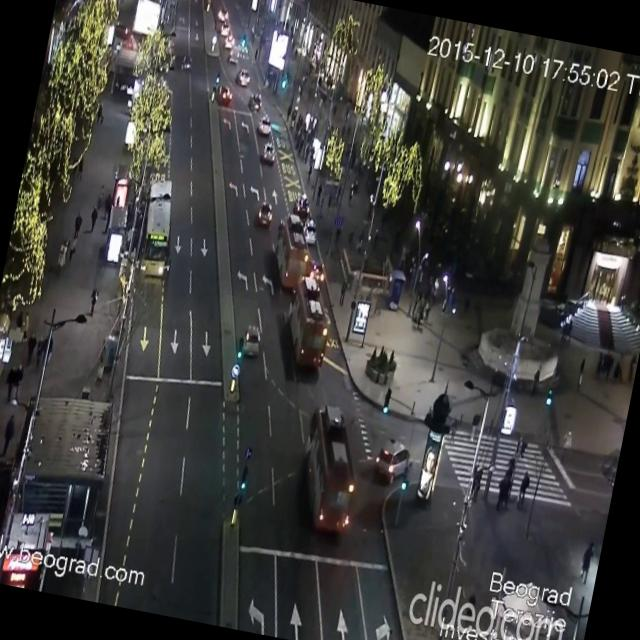bus: (288, 401, 371, 538), (274, 272, 339, 372), (132, 176, 186, 280), (270, 214, 318, 290)
car: (370, 436, 414, 488), (255, 202, 275, 230), (242, 325, 261, 353), (258, 113, 272, 143), (236, 64, 252, 88), (214, 85, 232, 106), (262, 144, 277, 168), (248, 92, 262, 111), (228, 48, 240, 62), (225, 36, 236, 49), (218, 8, 228, 18), (222, 24, 230, 36)
